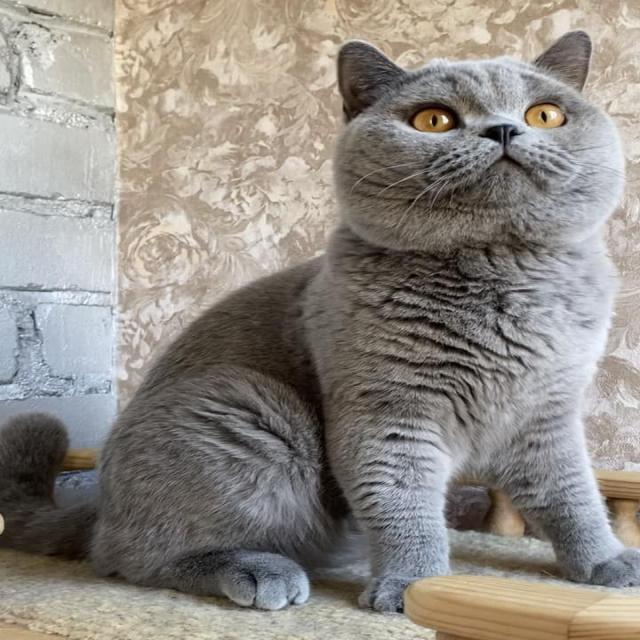british shorthair: (0, 31, 639, 611)
